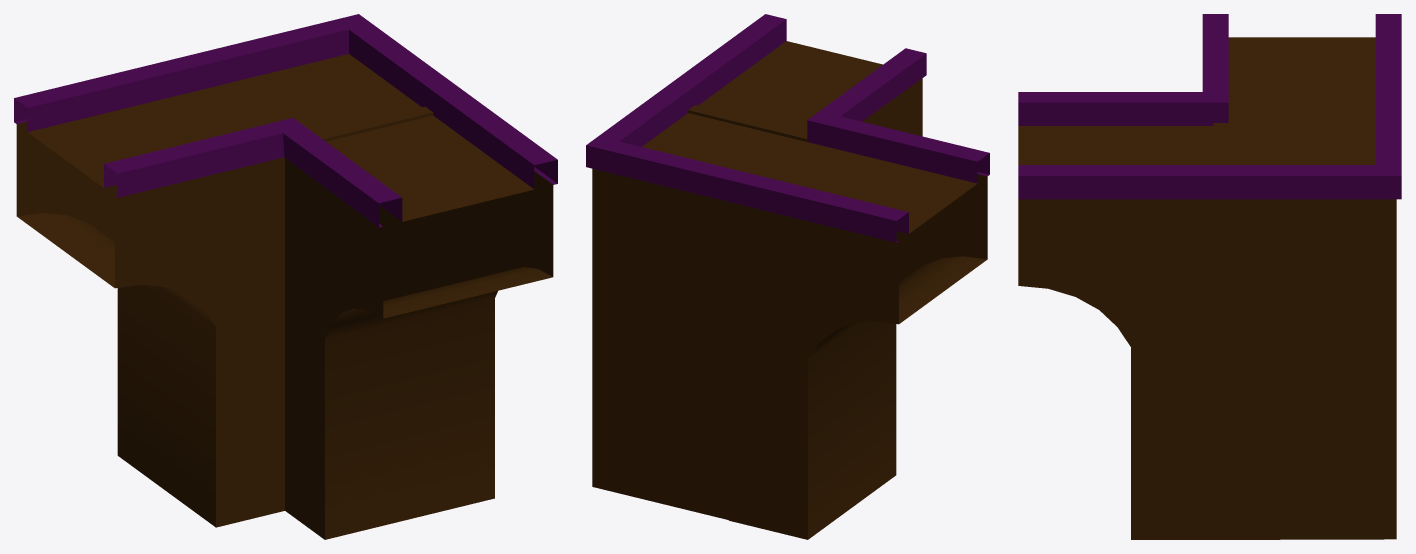
Rendered from Bridge_Corner_01.FBX.
The picture shows the model from 3 angles, left to right: view 1: azimuth 30°, elevation 25°; view 2: azimuth 150°, elevation 25°; view 3: azimuth 270°, elevation 25°; orthographic projection. The views are drawn at different scales.
Parts seen in each view (by area): view 1: Bridge_Corner_01; view 2: Bridge_Corner_01; view 3: Bridge_Corner_01.
Part boxes in pixels (x1,y1,x2,y2): Bridge_Corner_01: [14, 14, 557, 539]; Bridge_Corner_01: [586, 14, 989, 539]; Bridge_Corner_01: [1018, 14, 1401, 539].
Size of the model in its own units: 810 by 855 by 810.
